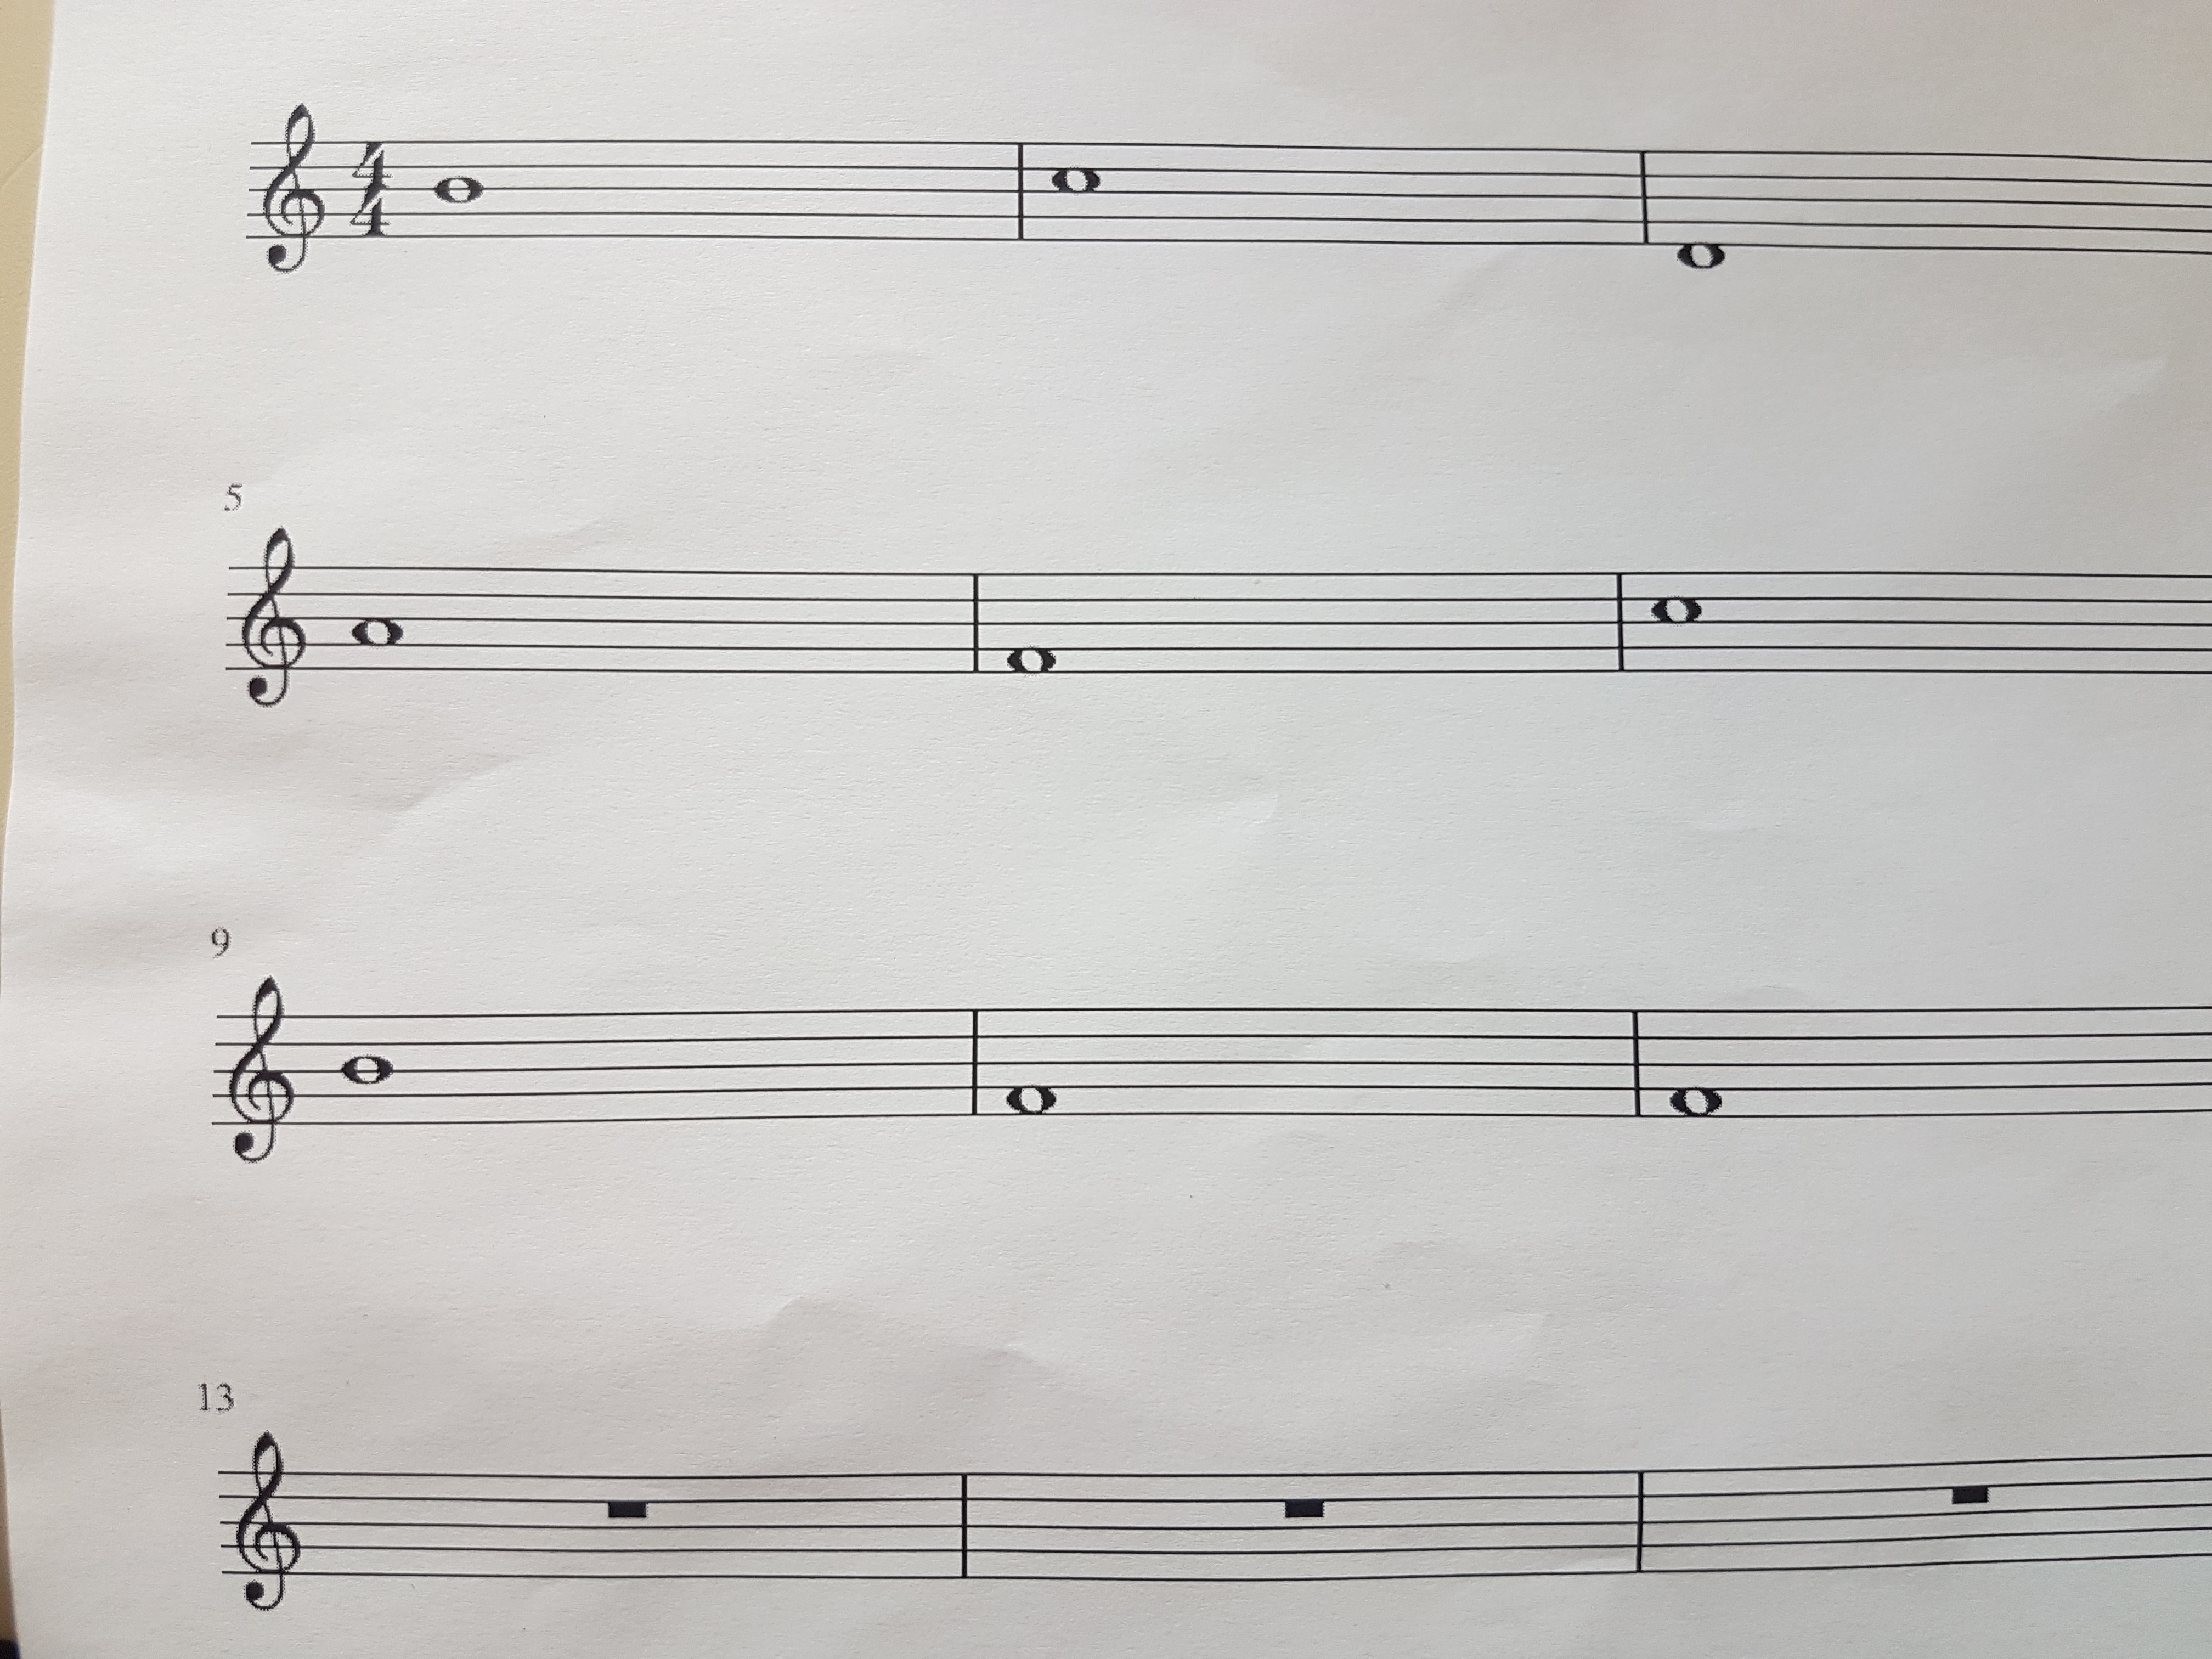key: (223, 1419, 312, 1629), (221, 969, 303, 1176), (232, 521, 312, 723), (254, 84, 326, 282)
pipe: (1622, 990, 1655, 1134), (1629, 134, 1663, 263), (1604, 559, 1637, 694), (951, 1455, 981, 1600), (960, 993, 989, 1133), (1629, 1455, 1656, 1593), (960, 559, 989, 687), (1007, 129, 1035, 261)
semibreve_a: (343, 542, 409, 699)
semibreve_c: (1646, 537, 1707, 695), (1049, 113, 1101, 263)
semibreve_d: (1669, 127, 1730, 296)
semibreve_f: (996, 974, 1066, 1145), (1665, 979, 1731, 1154), (1003, 542, 1061, 706)
semibreve_h: (333, 988, 404, 1150), (425, 110, 491, 261)
